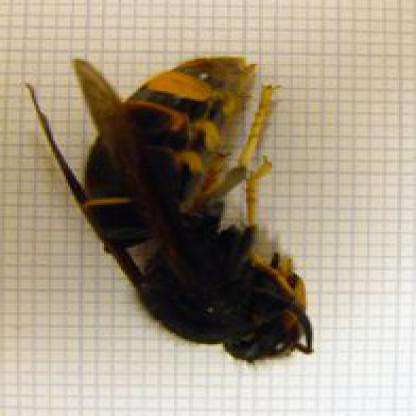Asian Hornet: (23, 49, 338, 363)
